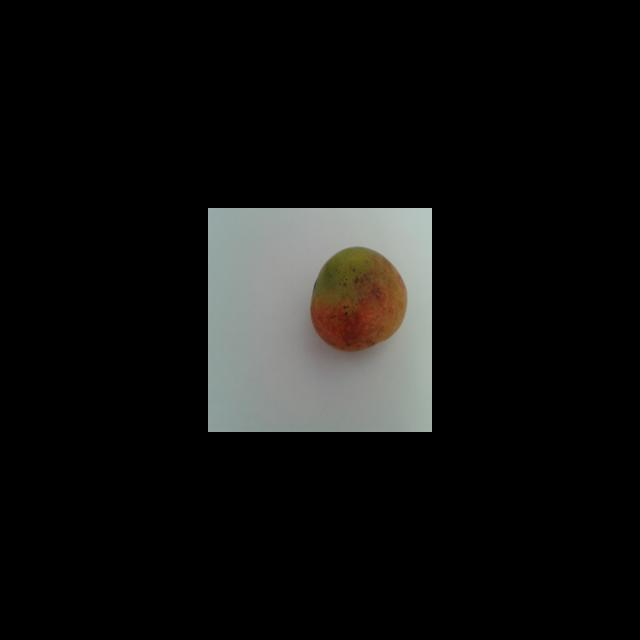Mango: (309, 245, 407, 351)
